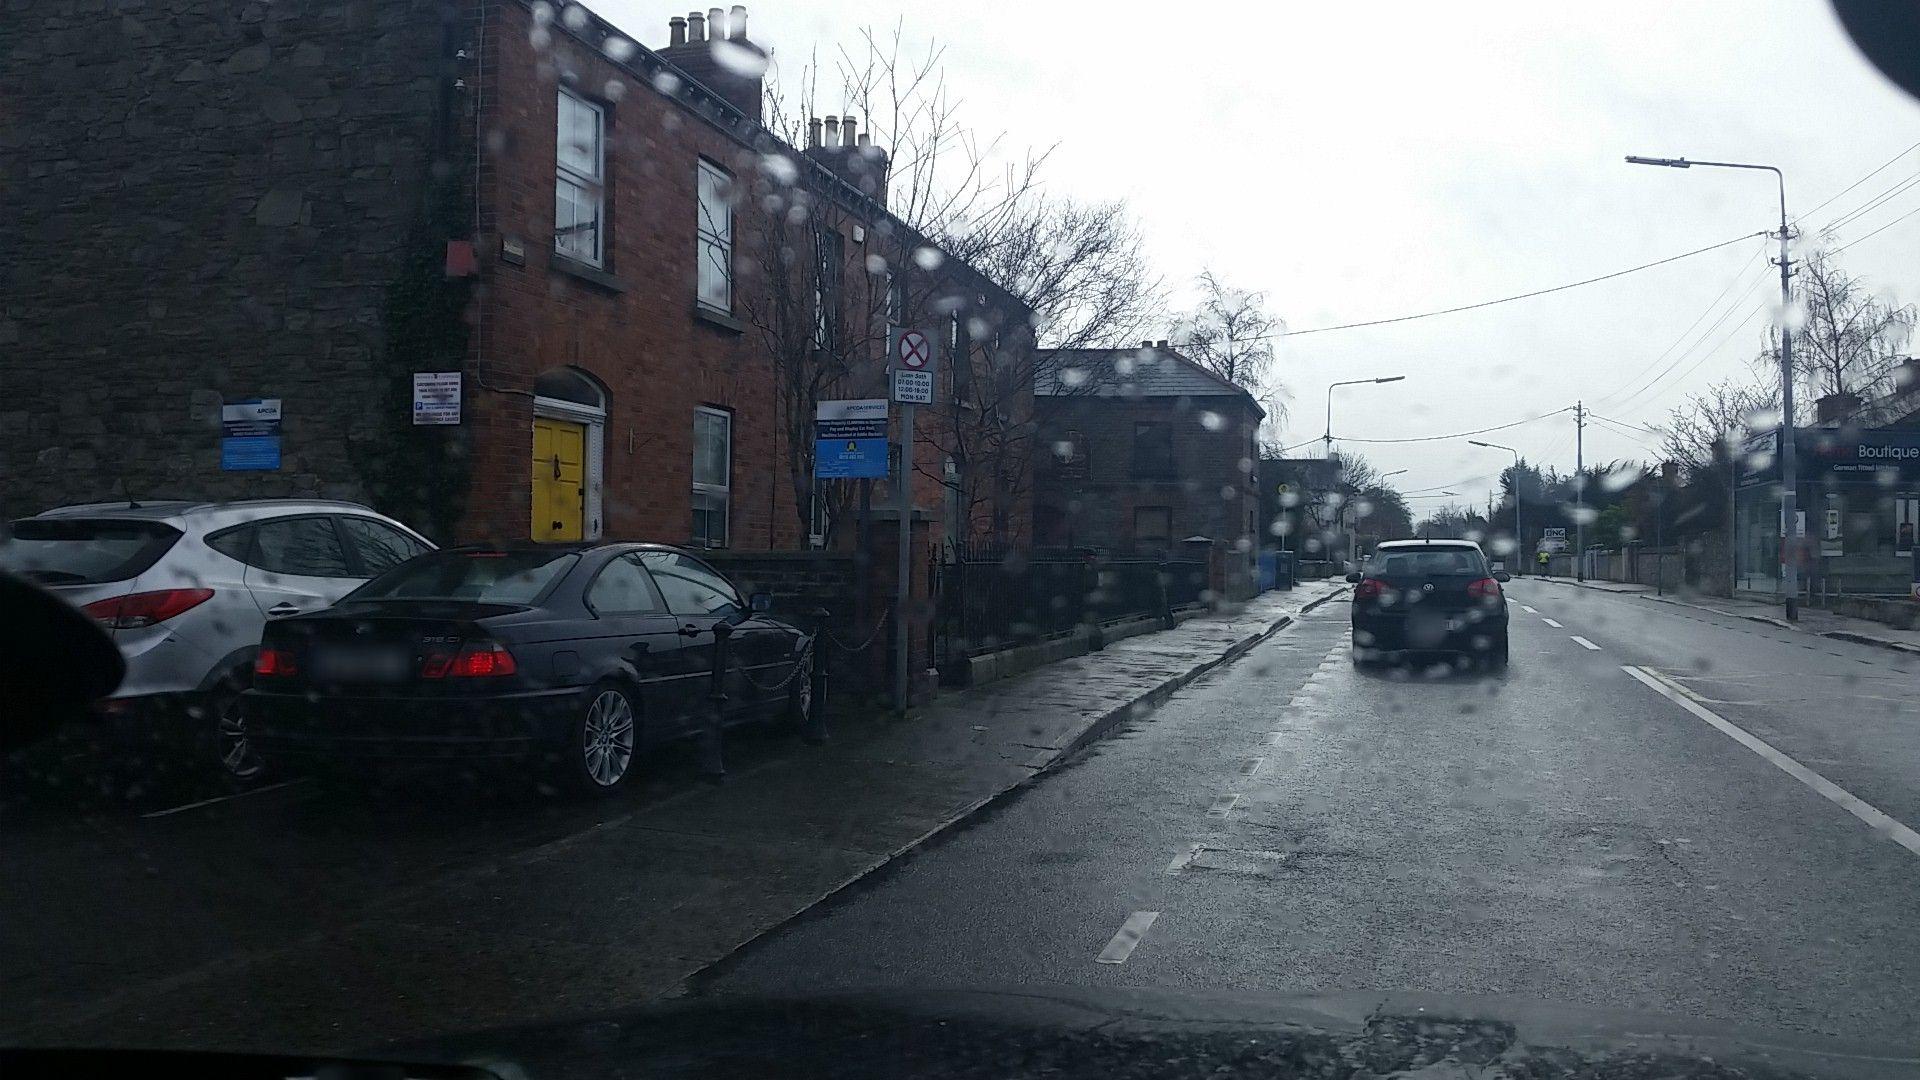property sign: (1535, 506, 1575, 560)
